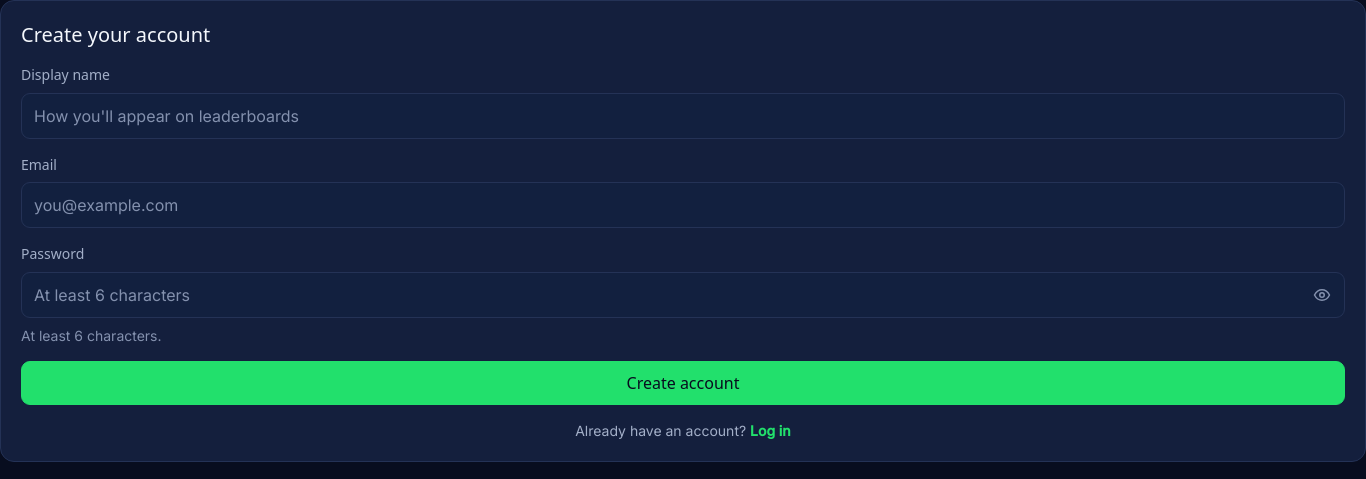
Test: SignUpForm breach-corpus gate › never shows the user how many times it was found
Type "Alex" into the field labelled "Display name". click: {"x": 683, "y": 116}
box: x1=22 y1=94 x2=1344 y2=138
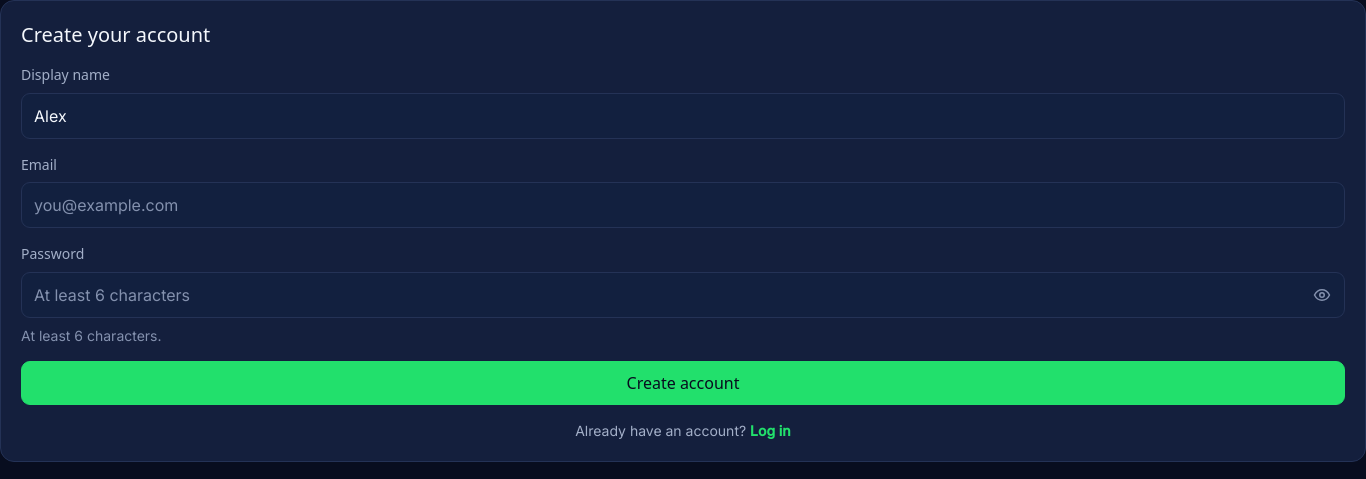
Type "alex@example.com" into the field labelled "Email". click: {"x": 683, "y": 205}
box: x1=22 y1=183 x2=1344 y2=227
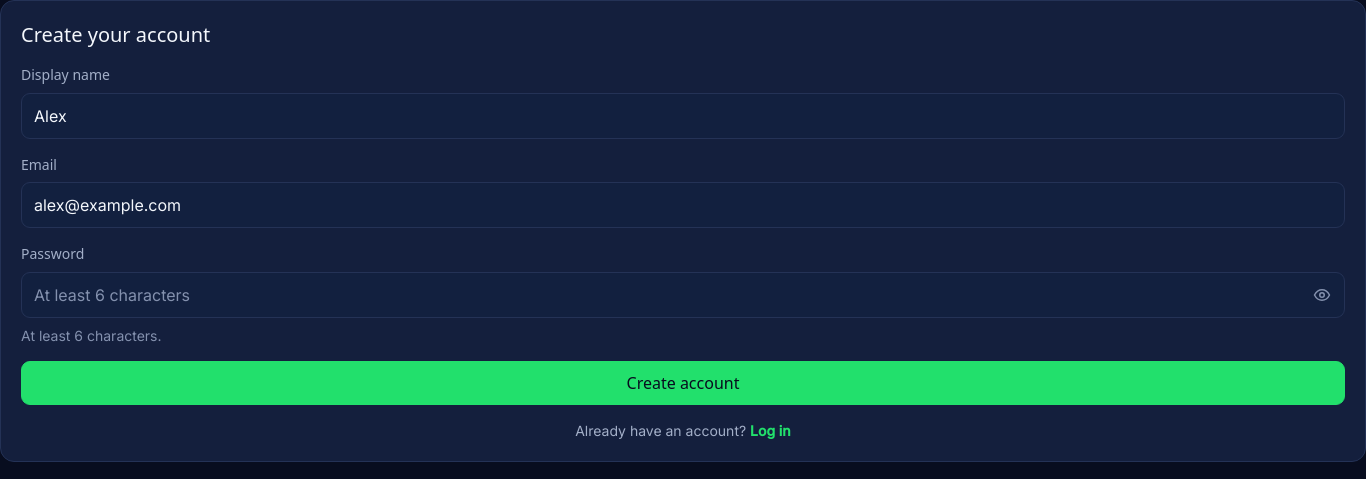
Type "correct horse battery staple" into the password field labelled "Password". click: {"x": 661, "y": 295}
box: x1=22 y1=273 x2=1300 y2=317
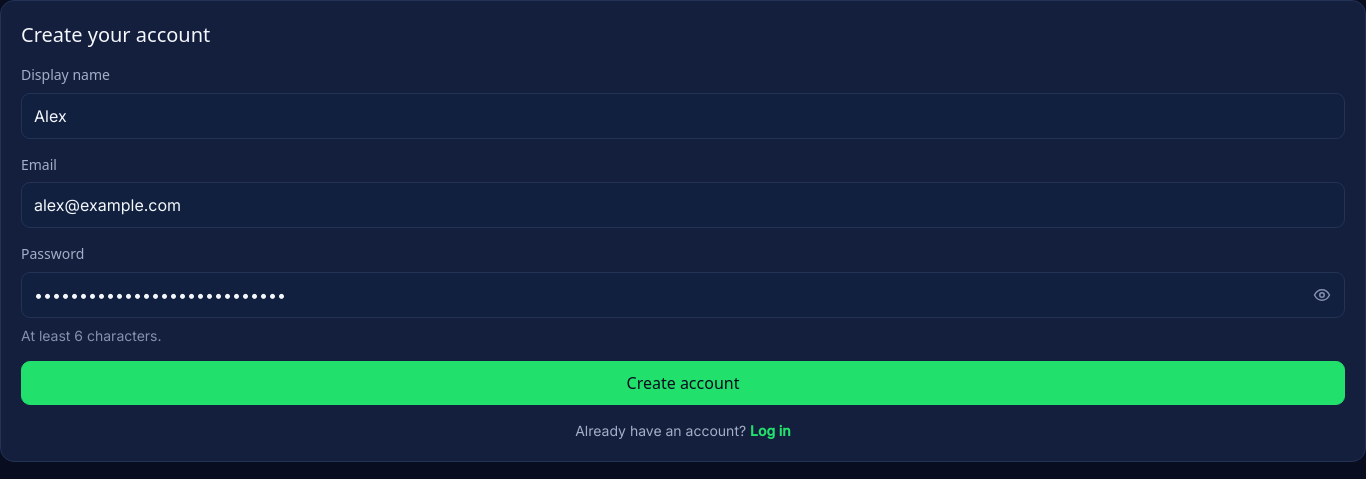
Click the button "Create account". click: {"x": 683, "y": 383}
box: x1=21 y1=361 x2=1345 y2=405
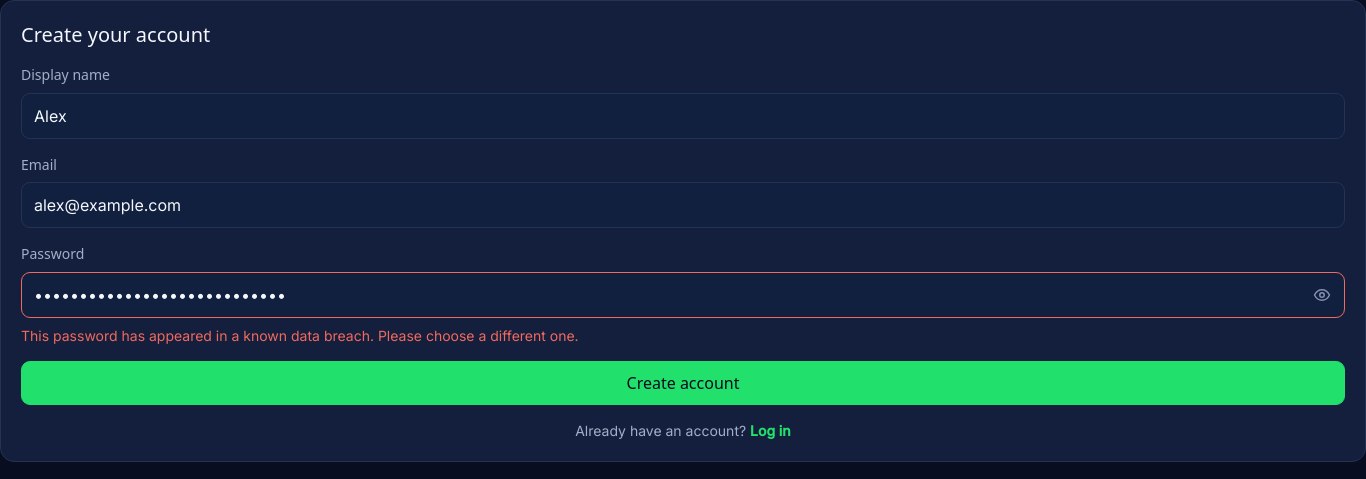
Expected: the text "This password has appeared in a known data breach. Please choose a different one." is shown, x1=21 y1=327 x2=579 y2=344
